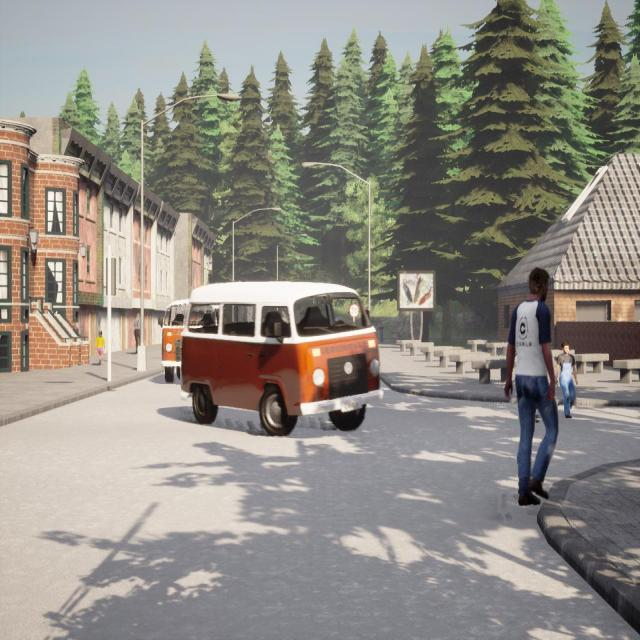Pedestrian: (504, 267, 558, 505), (556, 340, 580, 417), (132, 310, 142, 354), (95, 329, 106, 366), (378, 322, 384, 344)
Traffic_Signs: (348, 304, 359, 317)
Vehicle: (181, 282, 383, 436), (157, 298, 195, 384)
traffic_light: (106, 258, 116, 295)
